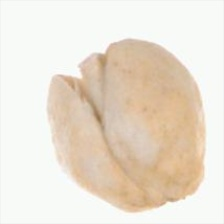L3: (51, 37, 126, 100)
L4: (46, 37, 208, 214)
